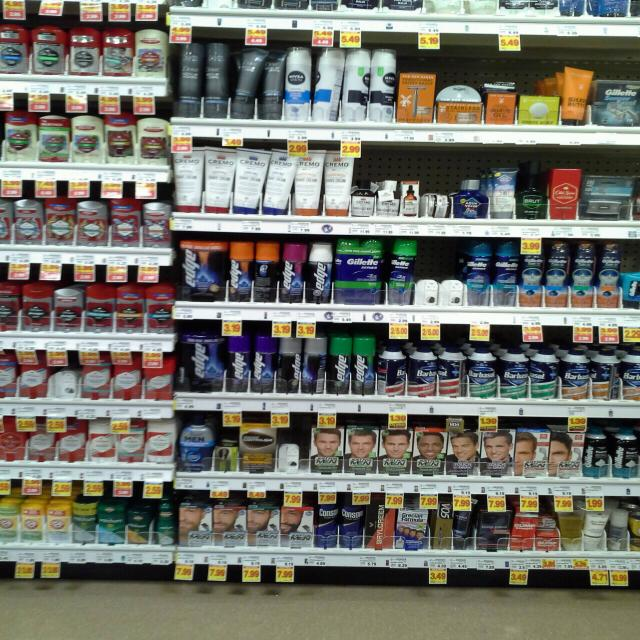empty: (423, 243, 466, 310), (277, 415, 314, 480)
